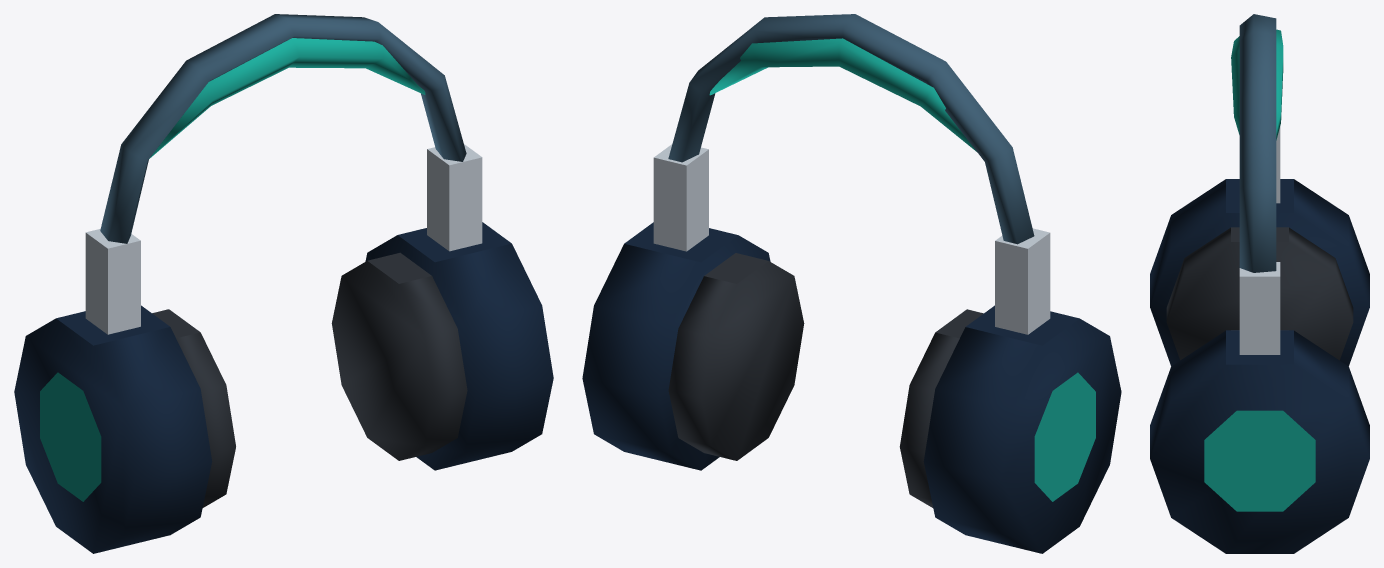
File: CM_Product_Headphones.fbx
The picture shows the model from 3 angles, left to right: view 1: azimuth 30°, elevation 25°; view 2: azimuth 150°, elevation 25°; view 3: azimuth 270°, elevation 25°; orthographic projection. The views are drawn at different scales.
Parts seen in each view (by area): view 1: Headphones; view 2: Headphones; view 3: Headphones.
Part boxes in pixels (x1=…): Headphones: x1=14, y1=14, x2=553, y2=553; Headphones: x1=582, y1=14, x2=1121, y2=553; Headphones: x1=1150, y1=14, x2=1369, y2=553.
Bounding box in the file's own units: 1.55 × 0.76 × 1.64.
Materials: 1 (1 with a texture image).
